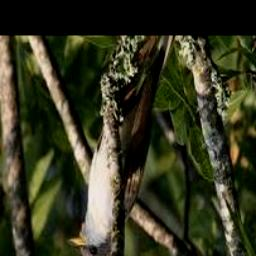Cuckoo: (67, 35, 175, 256)
